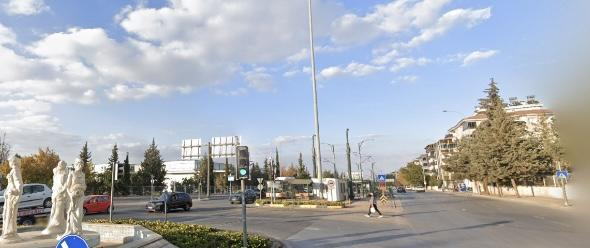greenlight: (237, 146, 247, 178)
